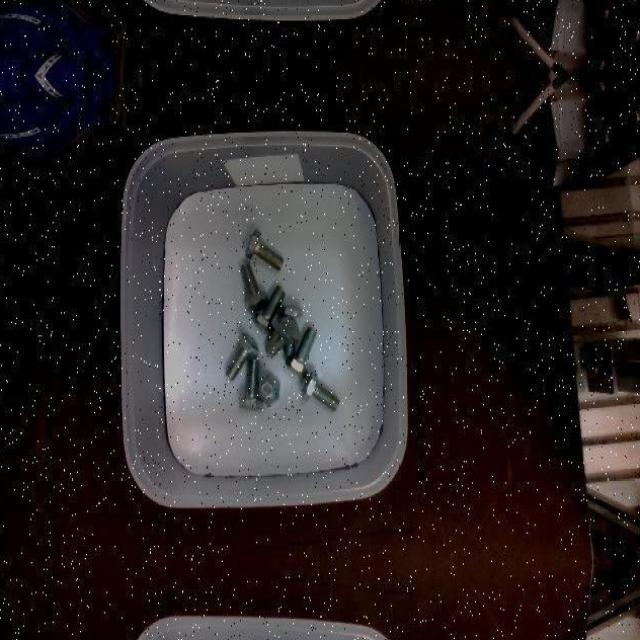screw: (226, 330, 260, 380), (253, 284, 286, 334), (287, 325, 317, 378), (246, 229, 285, 269), (302, 371, 340, 411), (266, 314, 301, 356), (241, 262, 268, 312), (239, 358, 263, 410), (258, 374, 280, 406)
